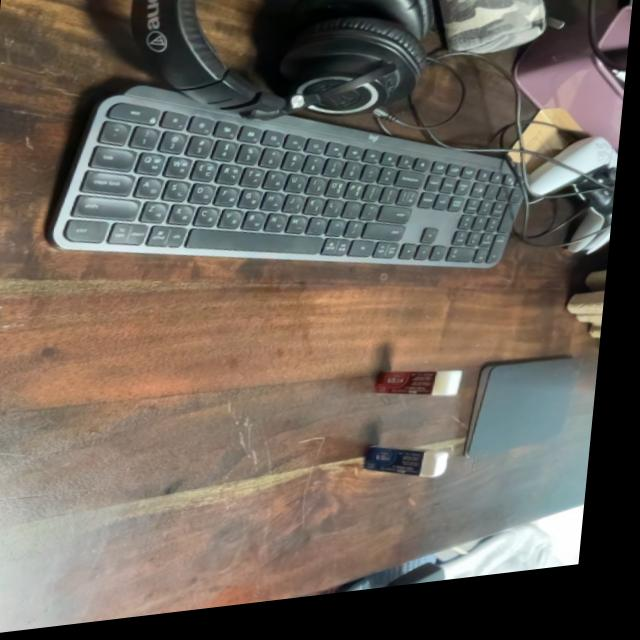blue: (364, 447, 464, 498)
red: (378, 374, 476, 417)
